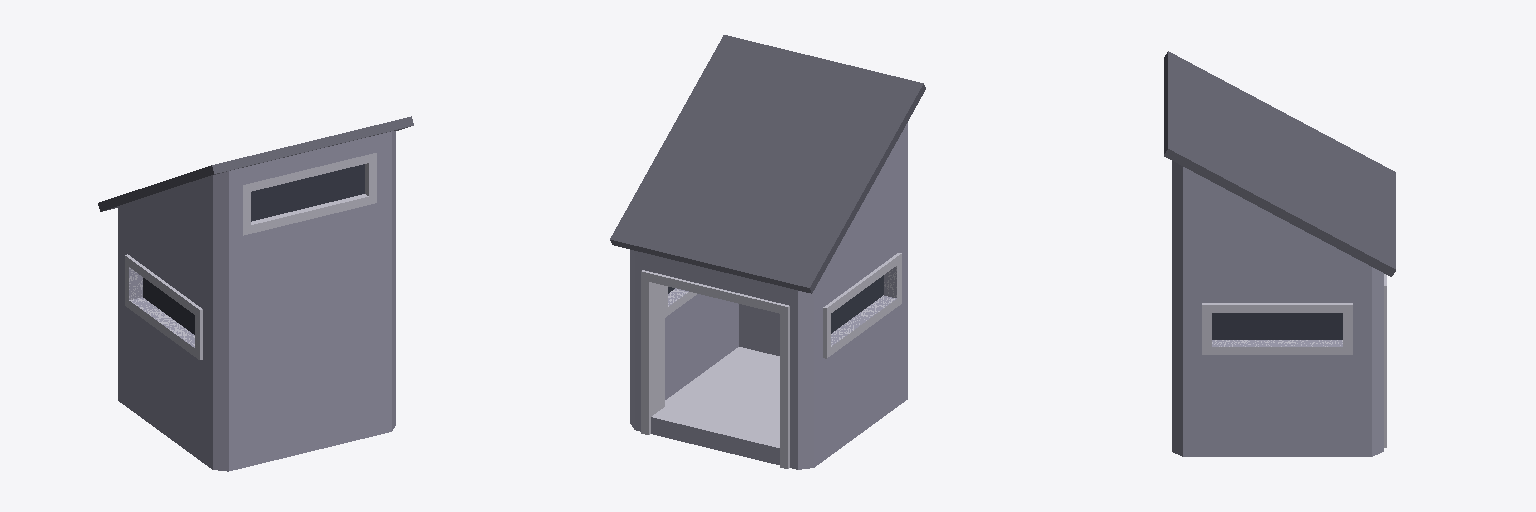
Rendered from BldTest.obj.
3 renders of one model, left to right at view 1: azimuth 30°, elevation 25°; view 2: azimuth 150°, elevation 25°; view 3: azimuth 270°, elevation 25°, orthographic.
Parts seen in each view (by area): view 1: roof_factorySlant_14, wall_straight_17, wall_windowFactory_15, roof_square_0, wall_windowFactory_16; view 2: roof_factorySlant_14, wall_windowFactory_15, wall_garageDoor_6, roof_square_0, wall_windowFactory_16, wall_straight_17; view 3: roof_factorySlant_14, wall_windowFactory_16, roof_square_0.
Boxes of the visible parts, box(x1,y1,x2,y2) form: roof_factorySlant_14: box(98, 116, 413, 300); wall_straight_17: box(213, 261, 391, 471); wall_windowFactory_15: box(118, 230, 228, 468); roof_square_0: box(118, 384, 395, 469); wall_windowFactory_16: box(392, 255, 395, 428); roof_factorySlant_14: box(610, 35, 925, 298); wall_windowFactory_15: box(814, 229, 907, 467); wall_garageDoor_6: box(635, 260, 813, 469); roof_square_0: box(630, 347, 907, 469); wall_windowFactory_16: box(630, 253, 738, 429); wall_straight_17: box(739, 304, 779, 355); roof_factorySlant_14: box(1164, 51, 1395, 285); wall_windowFactory_16: box(1172, 281, 1383, 456); roof_square_0: box(1172, 435, 1383, 456).
Size of the model in its own units: 1.23 by 1.83 by 1.24.